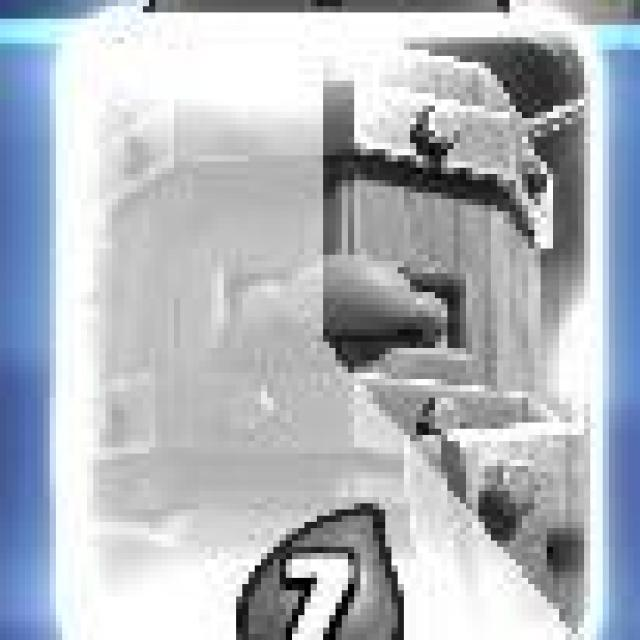Evolved_Recruits: (55, 15, 605, 640)
